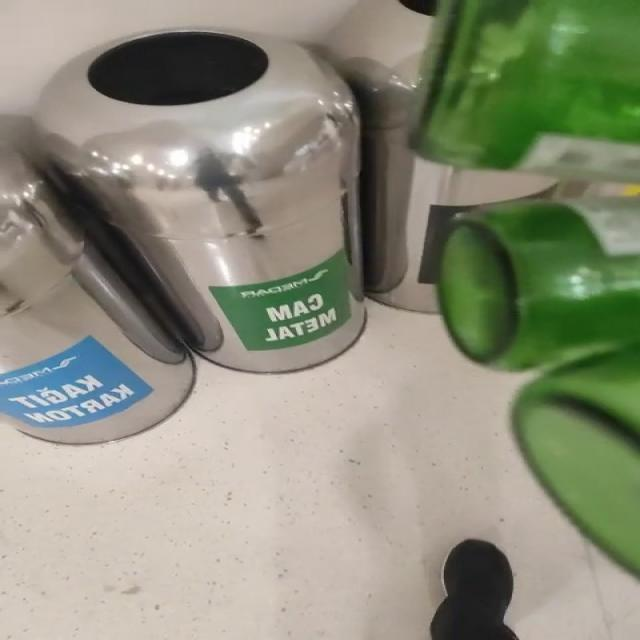glass: (439, 196, 639, 574), (412, 0, 639, 182)
